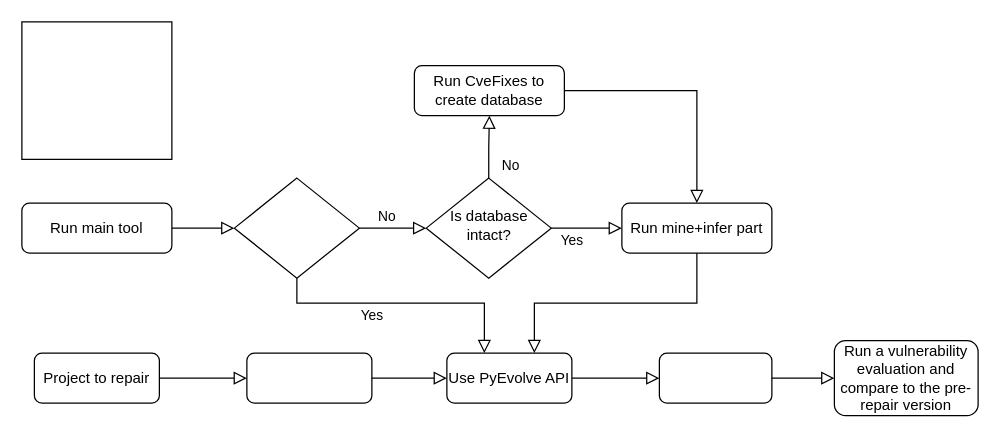
Some shapes in this 1000 by 438 pixel diagram are drawn without their labels. The box of each missing label's shape, as (x1, y1, x2, y2) in pixels:
Are the rules learned?: (233, 177, 359, 278)
Repaired code: (658, 352, 772, 403)
Requirements: - CveFixes (database) - PyEvolve (miner + CPAT applier): (21, 21, 172, 159)
Run type infer on project: (246, 352, 372, 403)
